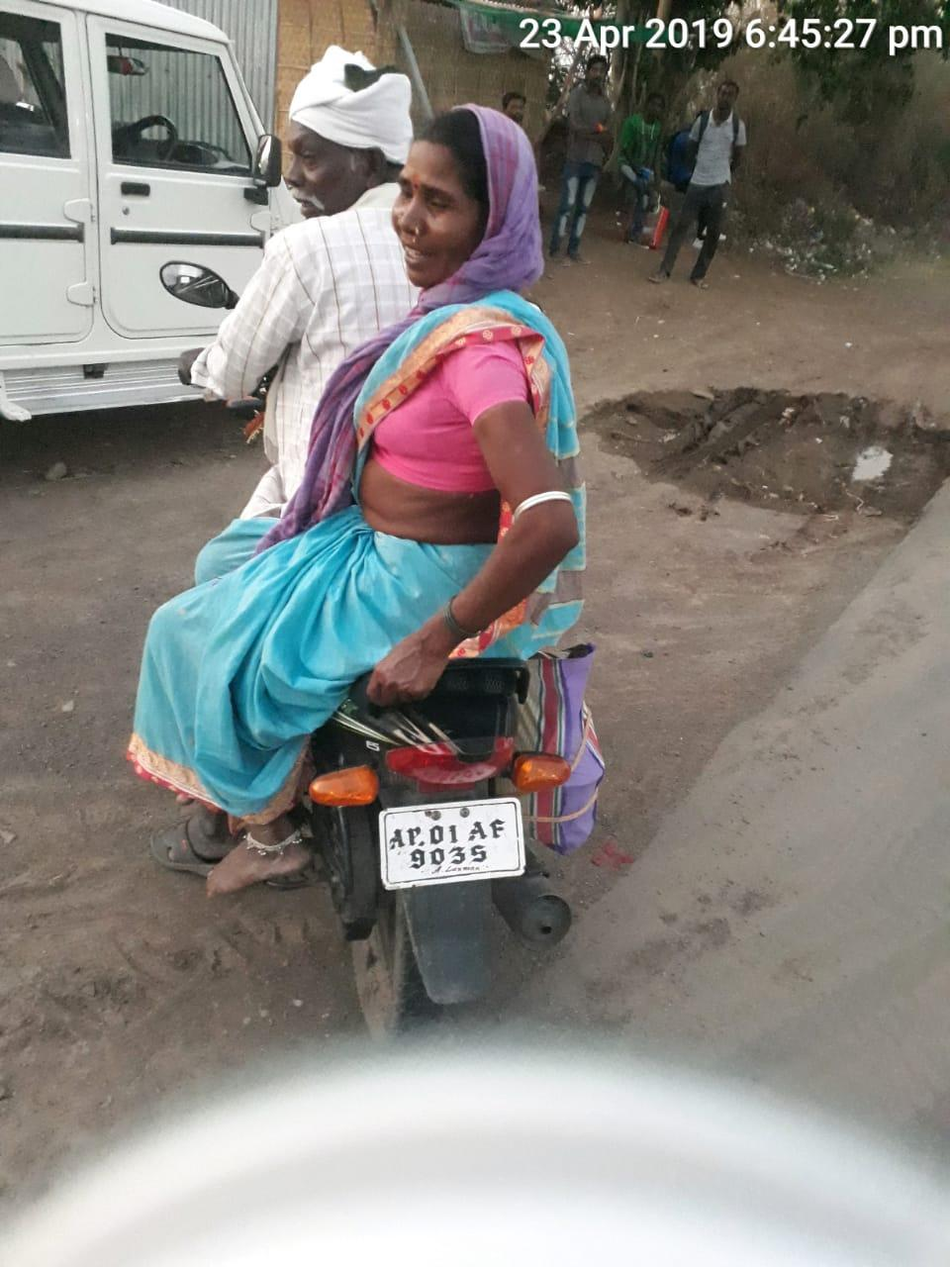plate: (369, 778, 535, 907)
